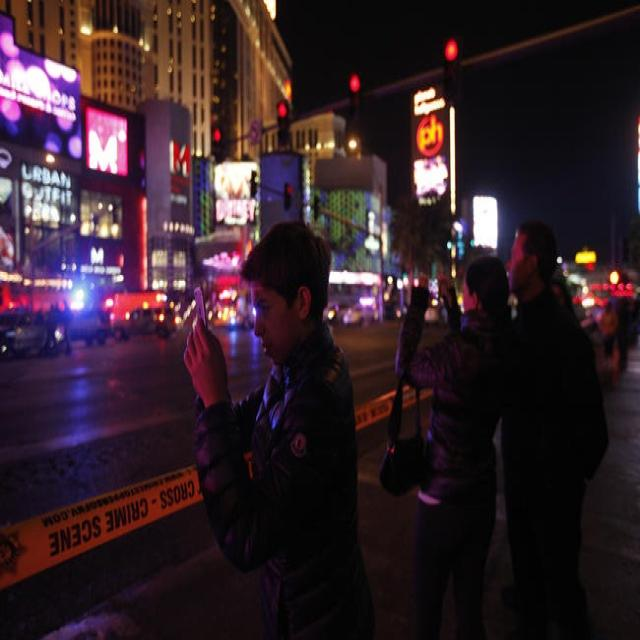body: (179, 216, 357, 640), (478, 215, 613, 640), (393, 252, 516, 640), (390, 250, 640, 394), (27, 295, 77, 359)
